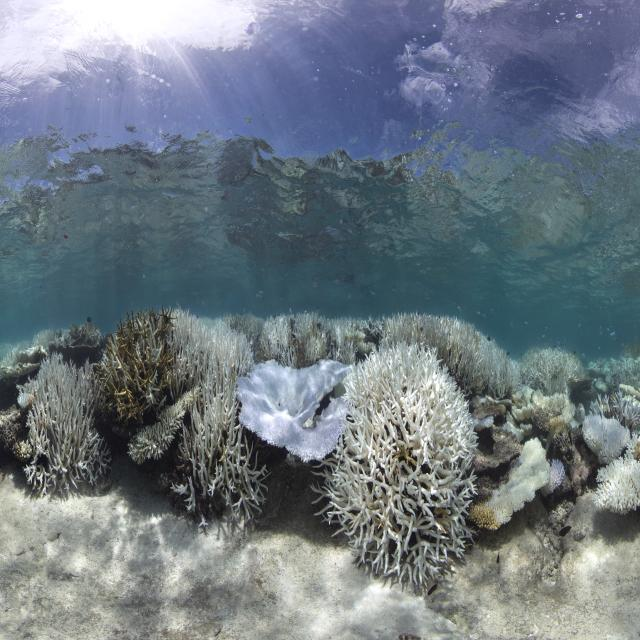Bleached Coral: (338, 335, 476, 590), (179, 297, 264, 542), (240, 363, 352, 468), (23, 355, 98, 494), (499, 435, 549, 528), (481, 323, 518, 395), (520, 350, 585, 390), (596, 460, 640, 518), (581, 412, 630, 457), (546, 384, 576, 421), (611, 391, 640, 424), (549, 458, 566, 491), (508, 403, 533, 421), (475, 414, 497, 432), (500, 421, 520, 440), (523, 423, 534, 435)
Dead Coral: (560, 429, 590, 497)
